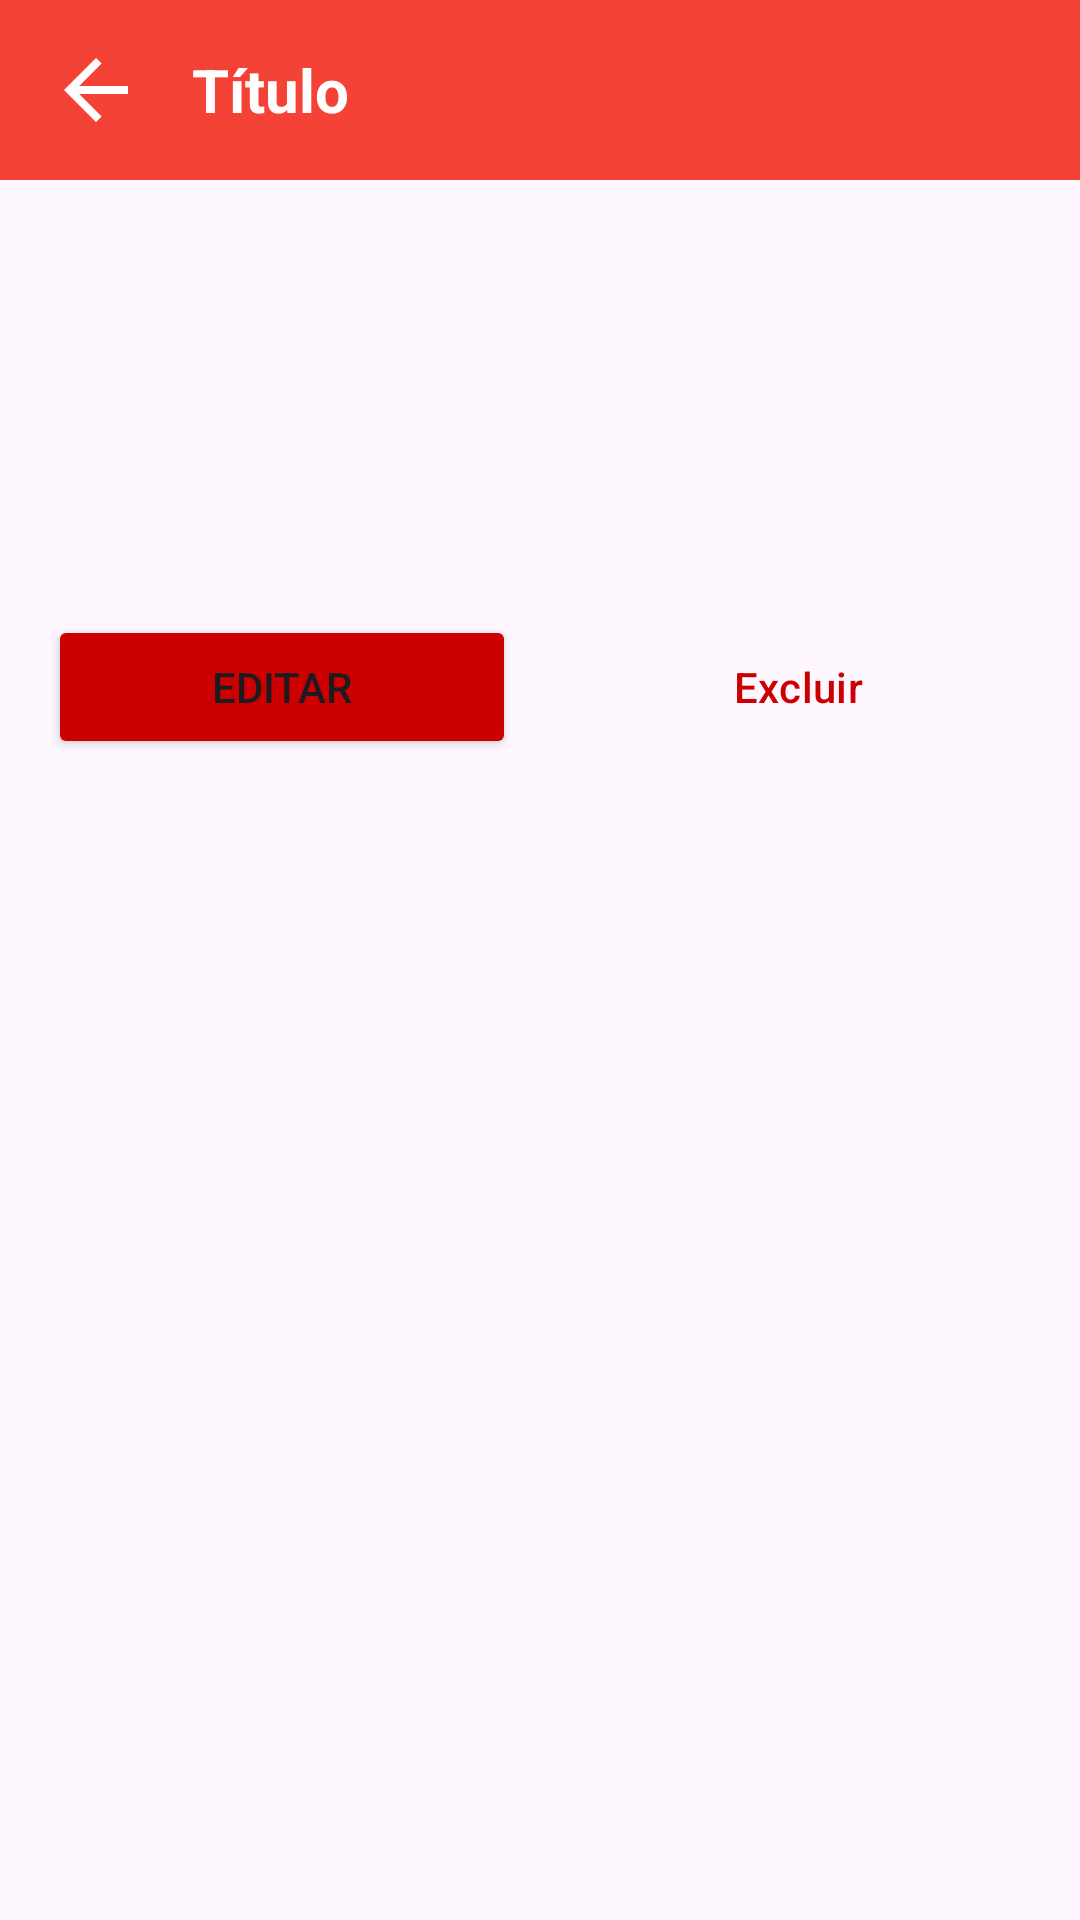

Icon bounding boxes for this 1080 x 1920 phone screenshot, format (left=x1, top=y1, right=x2, bottom=y2):
Voltar: (left=64, top=58, right=128, bottom=122)
